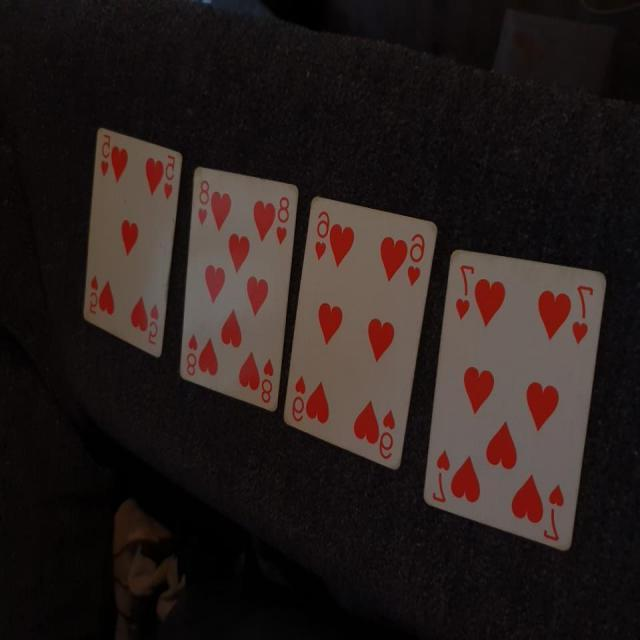5 of hearts: (76, 116, 191, 362)
6 of hearts: (278, 189, 437, 474)
7 of hearts: (421, 244, 610, 558)
8 of hearts: (173, 162, 301, 418)
